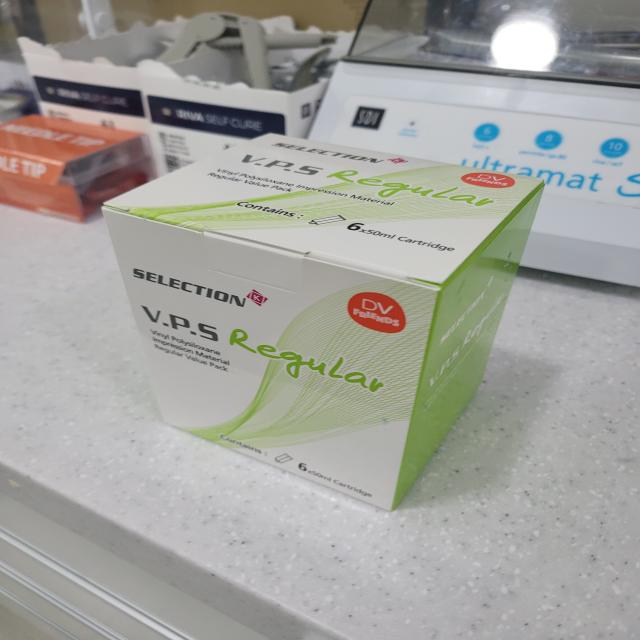impression: (88, 113, 566, 536)
